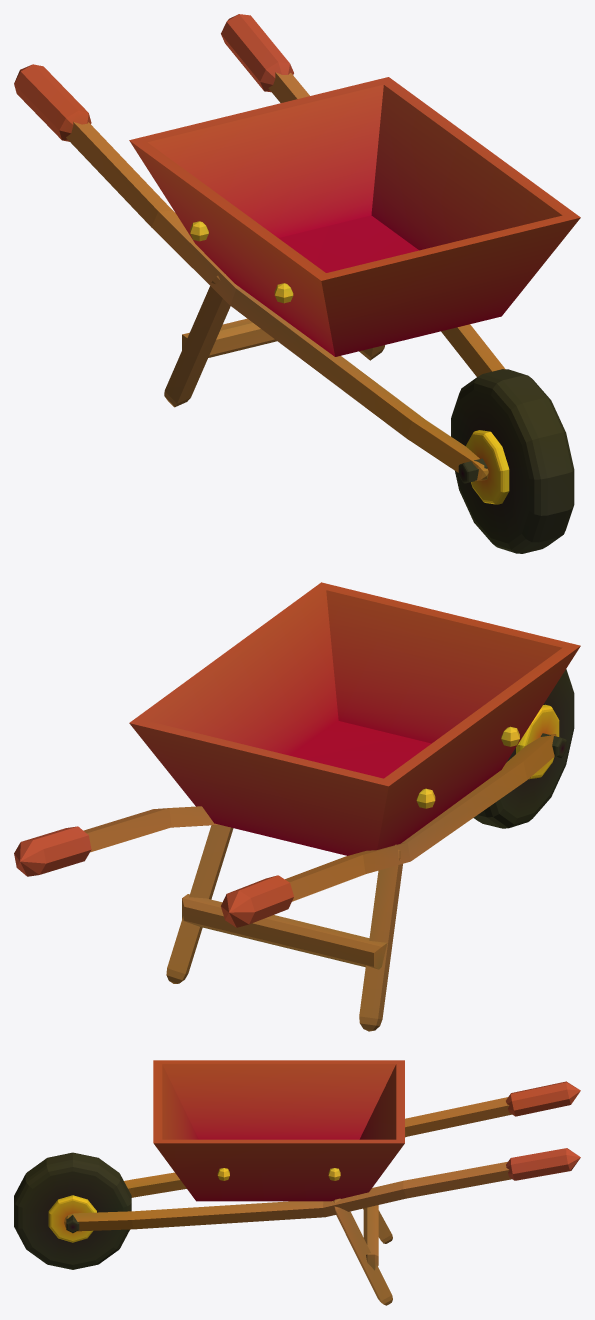
File: Farm_Wheelbarrow.glb
3 views of the same model, one above another, from view 1: azimuth 30°, elevation 25°; view 2: azimuth 150°, elevation 25°; view 3: azimuth 270°, elevation 25° (orthographic). The views are drawn at different scales.
Parts seen in each view (by area): view 1: Farm_Wheelbarrow; view 2: Farm_Wheelbarrow; view 3: Farm_Wheelbarrow.
Boxes of the visible parts, x1,y1,x2,y2 form: Farm_Wheelbarrow: (14,14,580,553); Farm_Wheelbarrow: (14,582,580,1031); Farm_Wheelbarrow: (14,1060,580,1305).
Bounding box in the file's own units: 0.78 × 0.7556 × 2.25.
